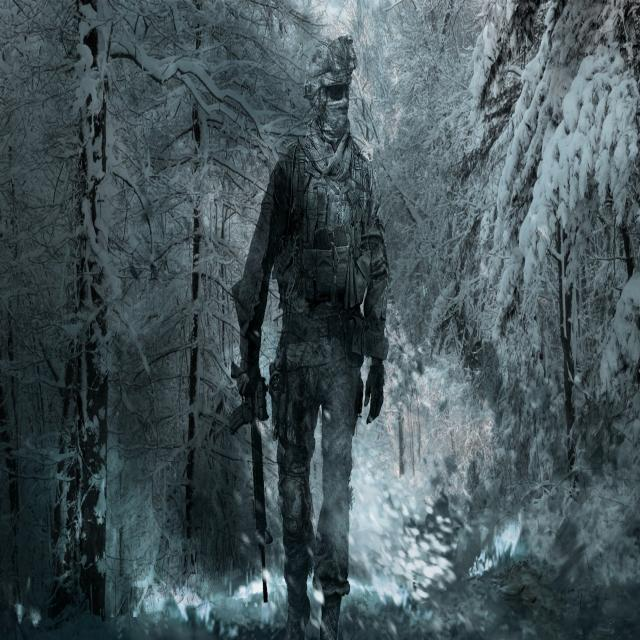Militant: (206, 14, 406, 640)
